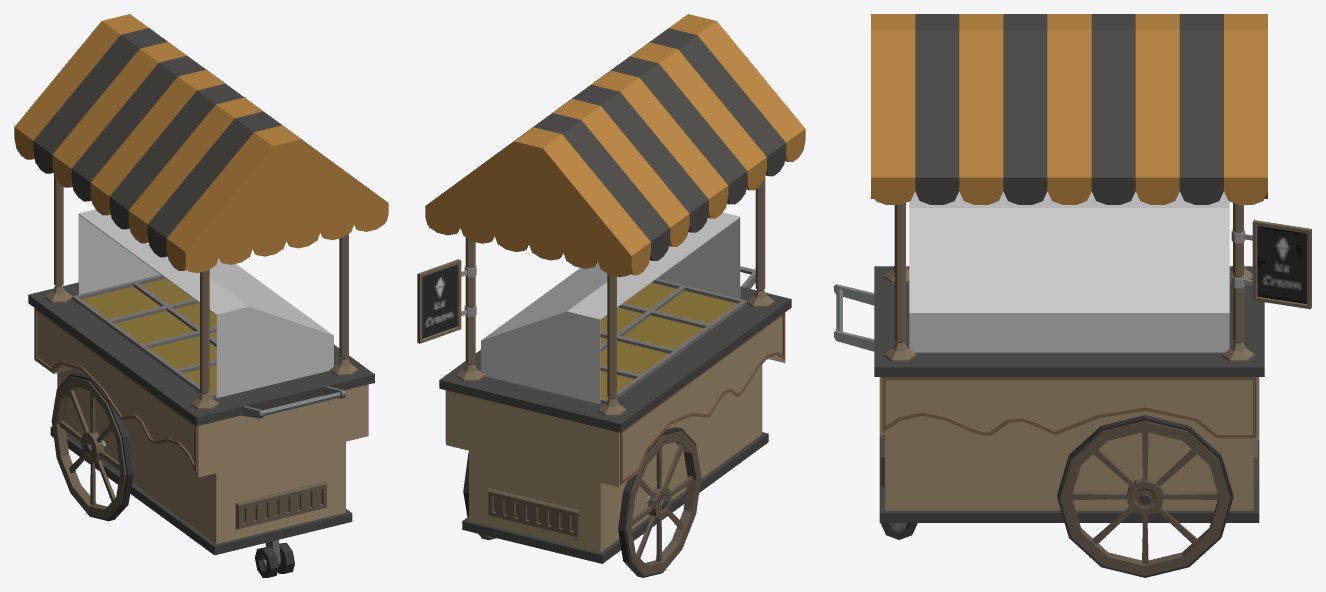
The model's file is SM_Bldg_City_AmusementPark_Cart_02.fbx.
3 renders of one model, left to right at view 1: azimuth 30°, elevation 25°; view 2: azimuth 150°, elevation 25°; view 3: azimuth 270°, elevation 25°, orthographic. The views are drawn at different scales.
Parts seen in each view (by area): view 1: SM_Bldg_City_AmusementPark_Cart_02; view 2: SM_Bldg_City_AmusementPark_Cart_02; view 3: SM_Bldg_City_AmusementPark_Cart_02.
Boxes of the visible parts, bbox=[...] form: SM_Bldg_City_AmusementPark_Cart_02: bbox=[14, 14, 388, 577]; SM_Bldg_City_AmusementPark_Cart_02: bbox=[417, 14, 805, 577]; SM_Bldg_City_AmusementPark_Cart_02: bbox=[834, 14, 1311, 577].
Size of the model in its own units: 125 by 260 by 220.
